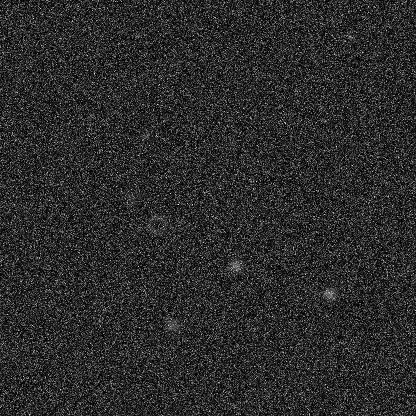Ring: (145, 212, 169, 236)
Spot: (227, 257, 243, 273), (164, 317, 180, 333), (222, 135, 238, 151), (321, 285, 337, 301), (122, 189, 138, 205), (137, 127, 153, 143)
